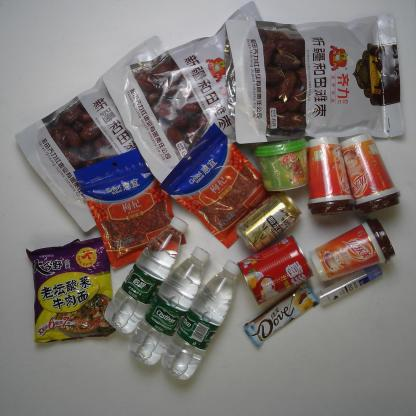Alcohol: (234, 193, 302, 252)
Canned Food: (238, 234, 315, 307)
Chocolate: (242, 284, 320, 348)
Dried Food: (102, 0, 276, 189), (14, 32, 170, 233), (222, 10, 408, 148)
Dried Fruit: (157, 123, 284, 250), (74, 148, 188, 270)
Drink: (161, 259, 241, 381), (104, 215, 186, 334), (134, 249, 211, 368)
Instant Drink: (310, 218, 394, 281), (340, 132, 402, 214), (304, 134, 356, 218), (252, 137, 312, 195)
Instant Noodles: (25, 236, 119, 343)
Stationery: (314, 263, 385, 306)
